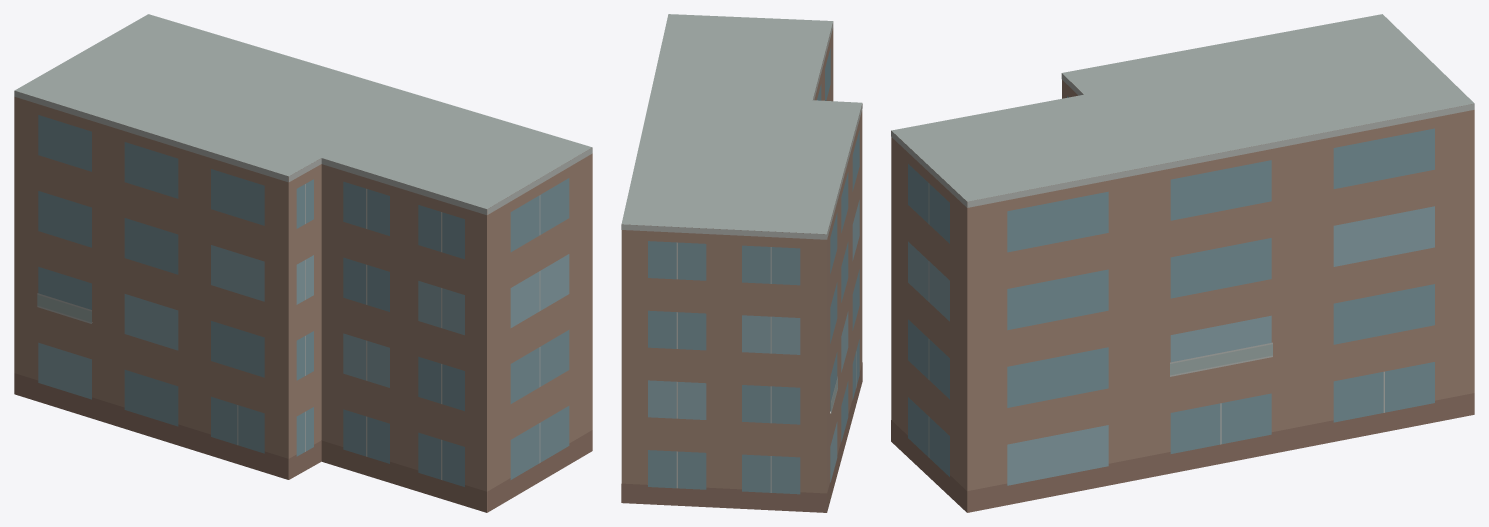
Rendered from survey-upis-32969251.glb.
The picture shows the model from 3 angles, left to right: view 1: azimuth 30°, elevation 25°; view 2: azimuth 150°, elevation 25°; view 3: azimuth 270°, elevation 25°; orthographic projection. The views are drawn at different scales.
Visible parts, largest first — view 1: survey-upis-32969251.tmp; view 2: survey-upis-32969251.tmp; view 3: survey-upis-32969251.tmp.
Part boxes in pixels (x1=…): survey-upis-32969251.tmp: x1=14, y1=14, x2=592, y2=512; survey-upis-32969251.tmp: x1=621, y1=14, x2=862, y2=512; survey-upis-32969251.tmp: x1=891, y1=14, x2=1474, y2=512.
Size of the model in its own units: 15.8 by 12.2 by 20.74.
